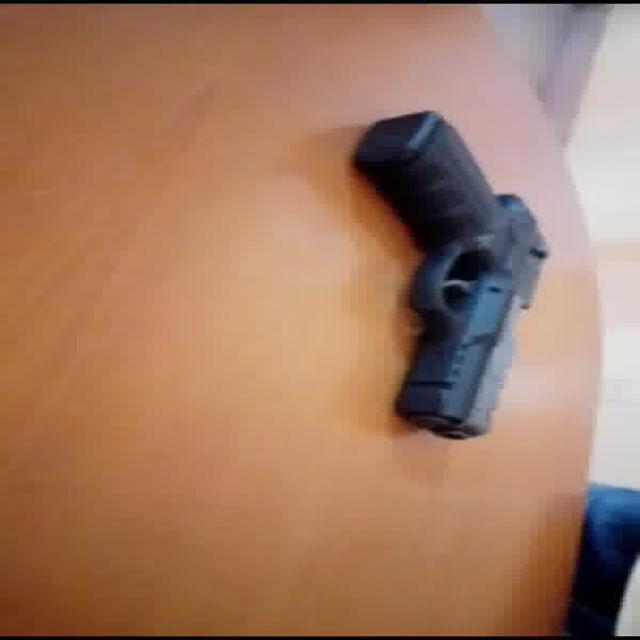weapon: (351, 110, 551, 440)
